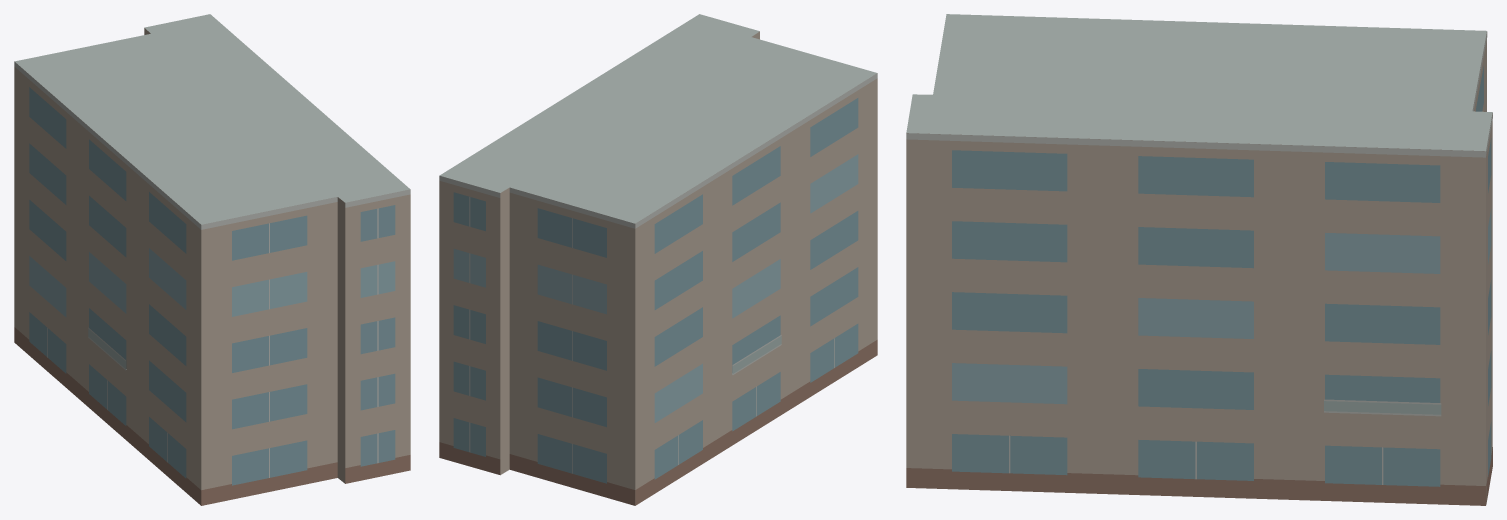
File: survey-upis-32656670.glb
The picture shows the model from 3 angles, left to right: view 1: azimuth 30°, elevation 25°; view 2: azimuth 150°, elevation 25°; view 3: azimuth 270°, elevation 25°; orthographic projection. The views are drawn at different scales.
Visible parts, largest first — view 1: survey-upis-32656670.tmp; view 2: survey-upis-32656670.tmp; view 3: survey-upis-32656670.tmp.
Boxes of the visible parts, x1,y1,x2,y2 form: survey-upis-32656670.tmp: (14, 14, 410, 505); survey-upis-32656670.tmp: (439, 14, 877, 505); survey-upis-32656670.tmp: (906, 14, 1492, 505).
Bounding box in the file's own units: 11.21 × 13.5 × 20.24.
